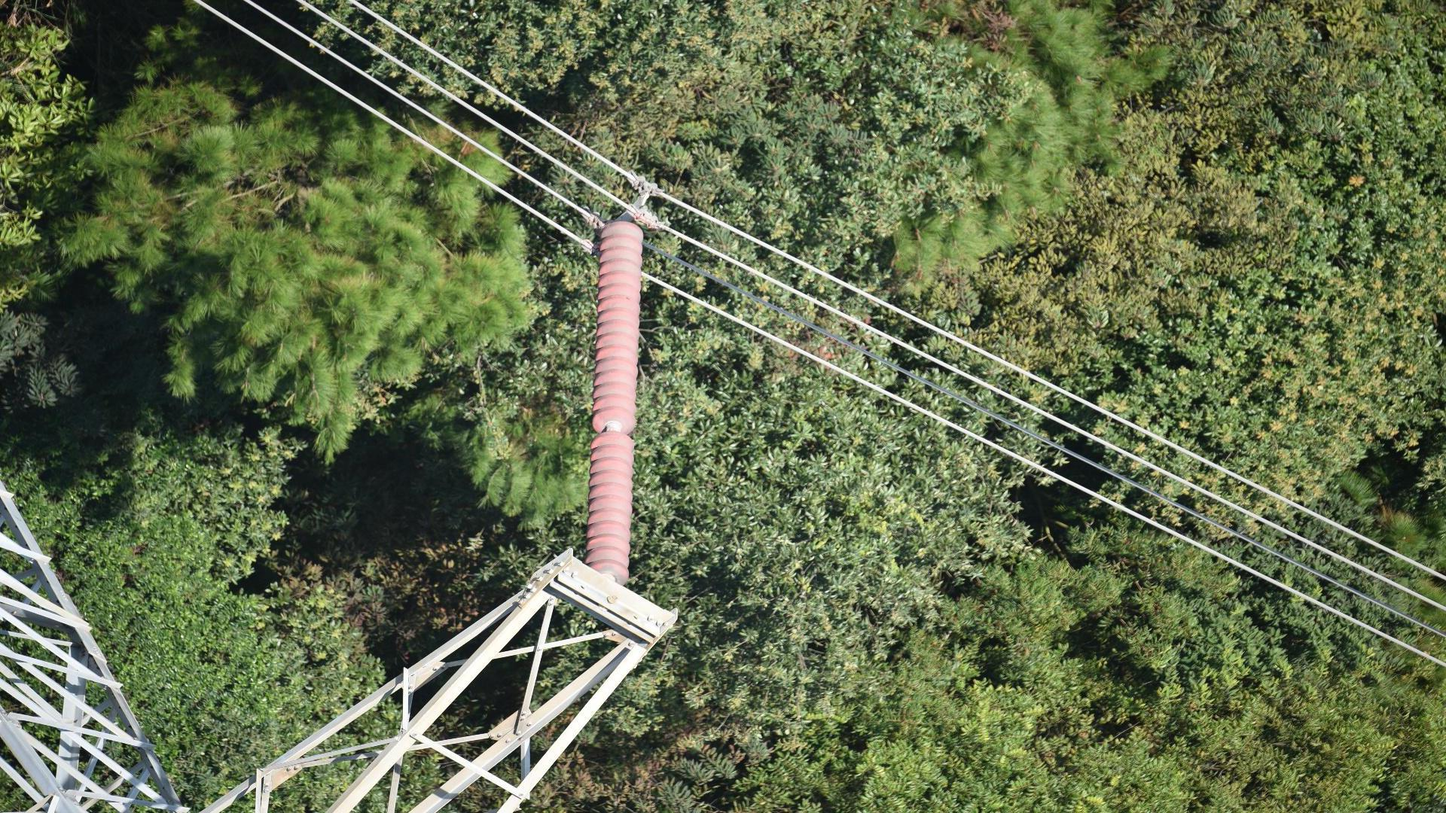insulator: (581, 218, 647, 578)
insulator_stringdrop: (588, 406, 638, 454)
